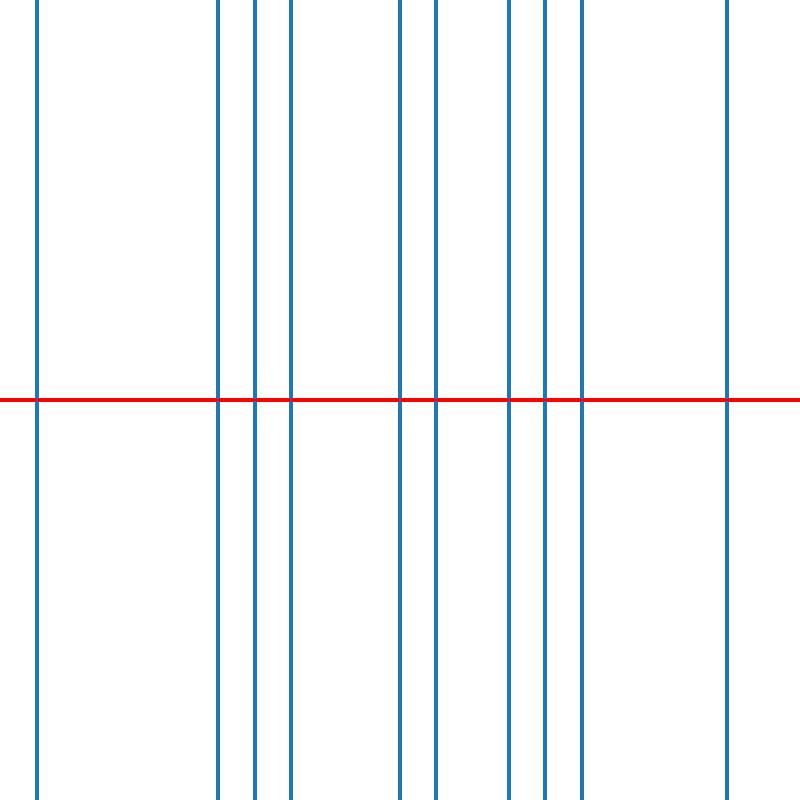root: (32, 396, 40, 404), (432, 396, 440, 404), (541, 396, 549, 404), (250, 396, 258, 404), (723, 396, 730, 404), (214, 396, 221, 404), (396, 396, 403, 404), (287, 396, 294, 404), (578, 396, 585, 404), (505, 396, 512, 404)
